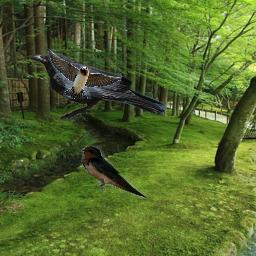Crow: (29, 53, 166, 123)
Swallow: (47, 48, 122, 99), (80, 145, 148, 199)
